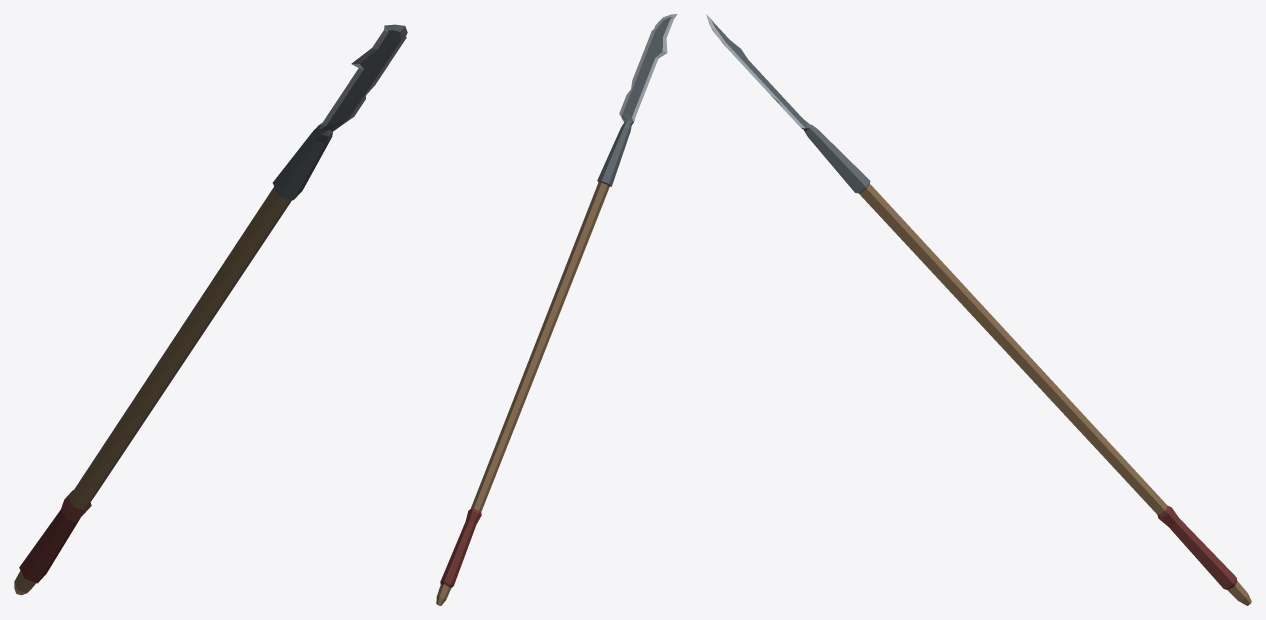
File: fk-spear-11.glb
3 renders of one model, left to right at view 1: azimuth 30°, elevation 25°; view 2: azimuth 150°, elevation 25°; view 3: azimuth 270°, elevation 25°, orthographic. The views are drawn at different scales.
Parts seen in each view (by area): view 1: fk-spear-11; view 2: fk-spear-11; view 3: fk-spear-11.
Part boxes in pixels (x1,y1,x2,y2): fk-spear-11: [14, 24, 407, 595]; fk-spear-11: [436, 14, 677, 605]; fk-spear-11: [706, 14, 1251, 605].
Bounding box in the file's own units: 0.1574 × 1.86 × 1.6.
1 material, 1 textured.
